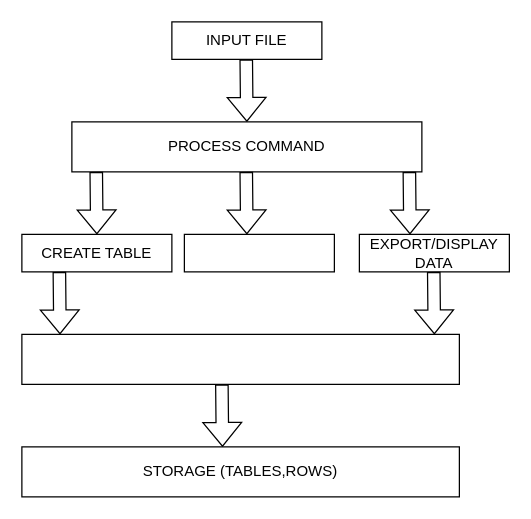
Image size: 531x519. Some labels were removed from this diagram. The centre of each missing label's shape, as x and y in pixels:
"DATABASE MODULE" goes at (240,358).
"INSERT ROW" goes at (258,252).
